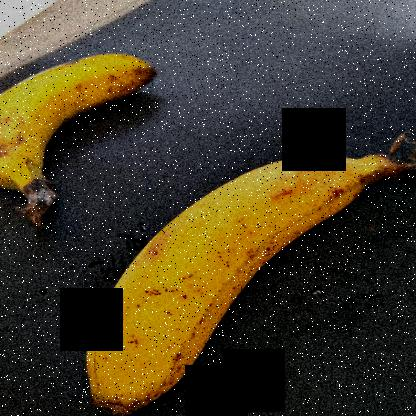ripe: (80, 138, 385, 416), (0, 30, 164, 231)
